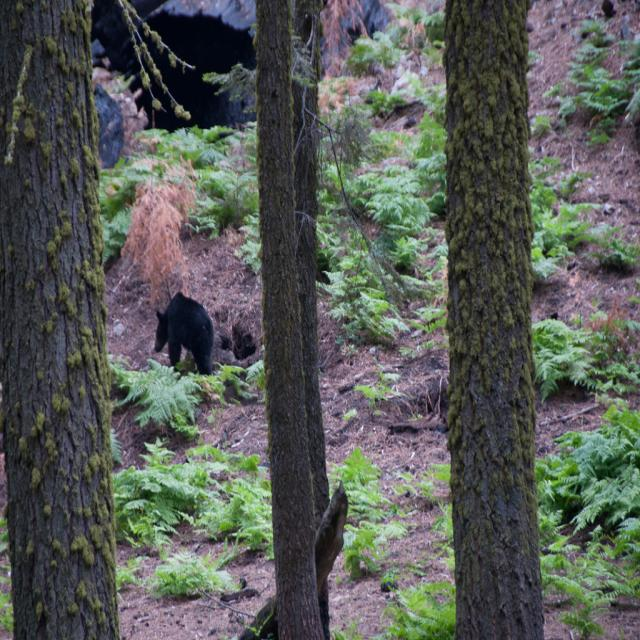Buffalo: (155, 295, 216, 376)
